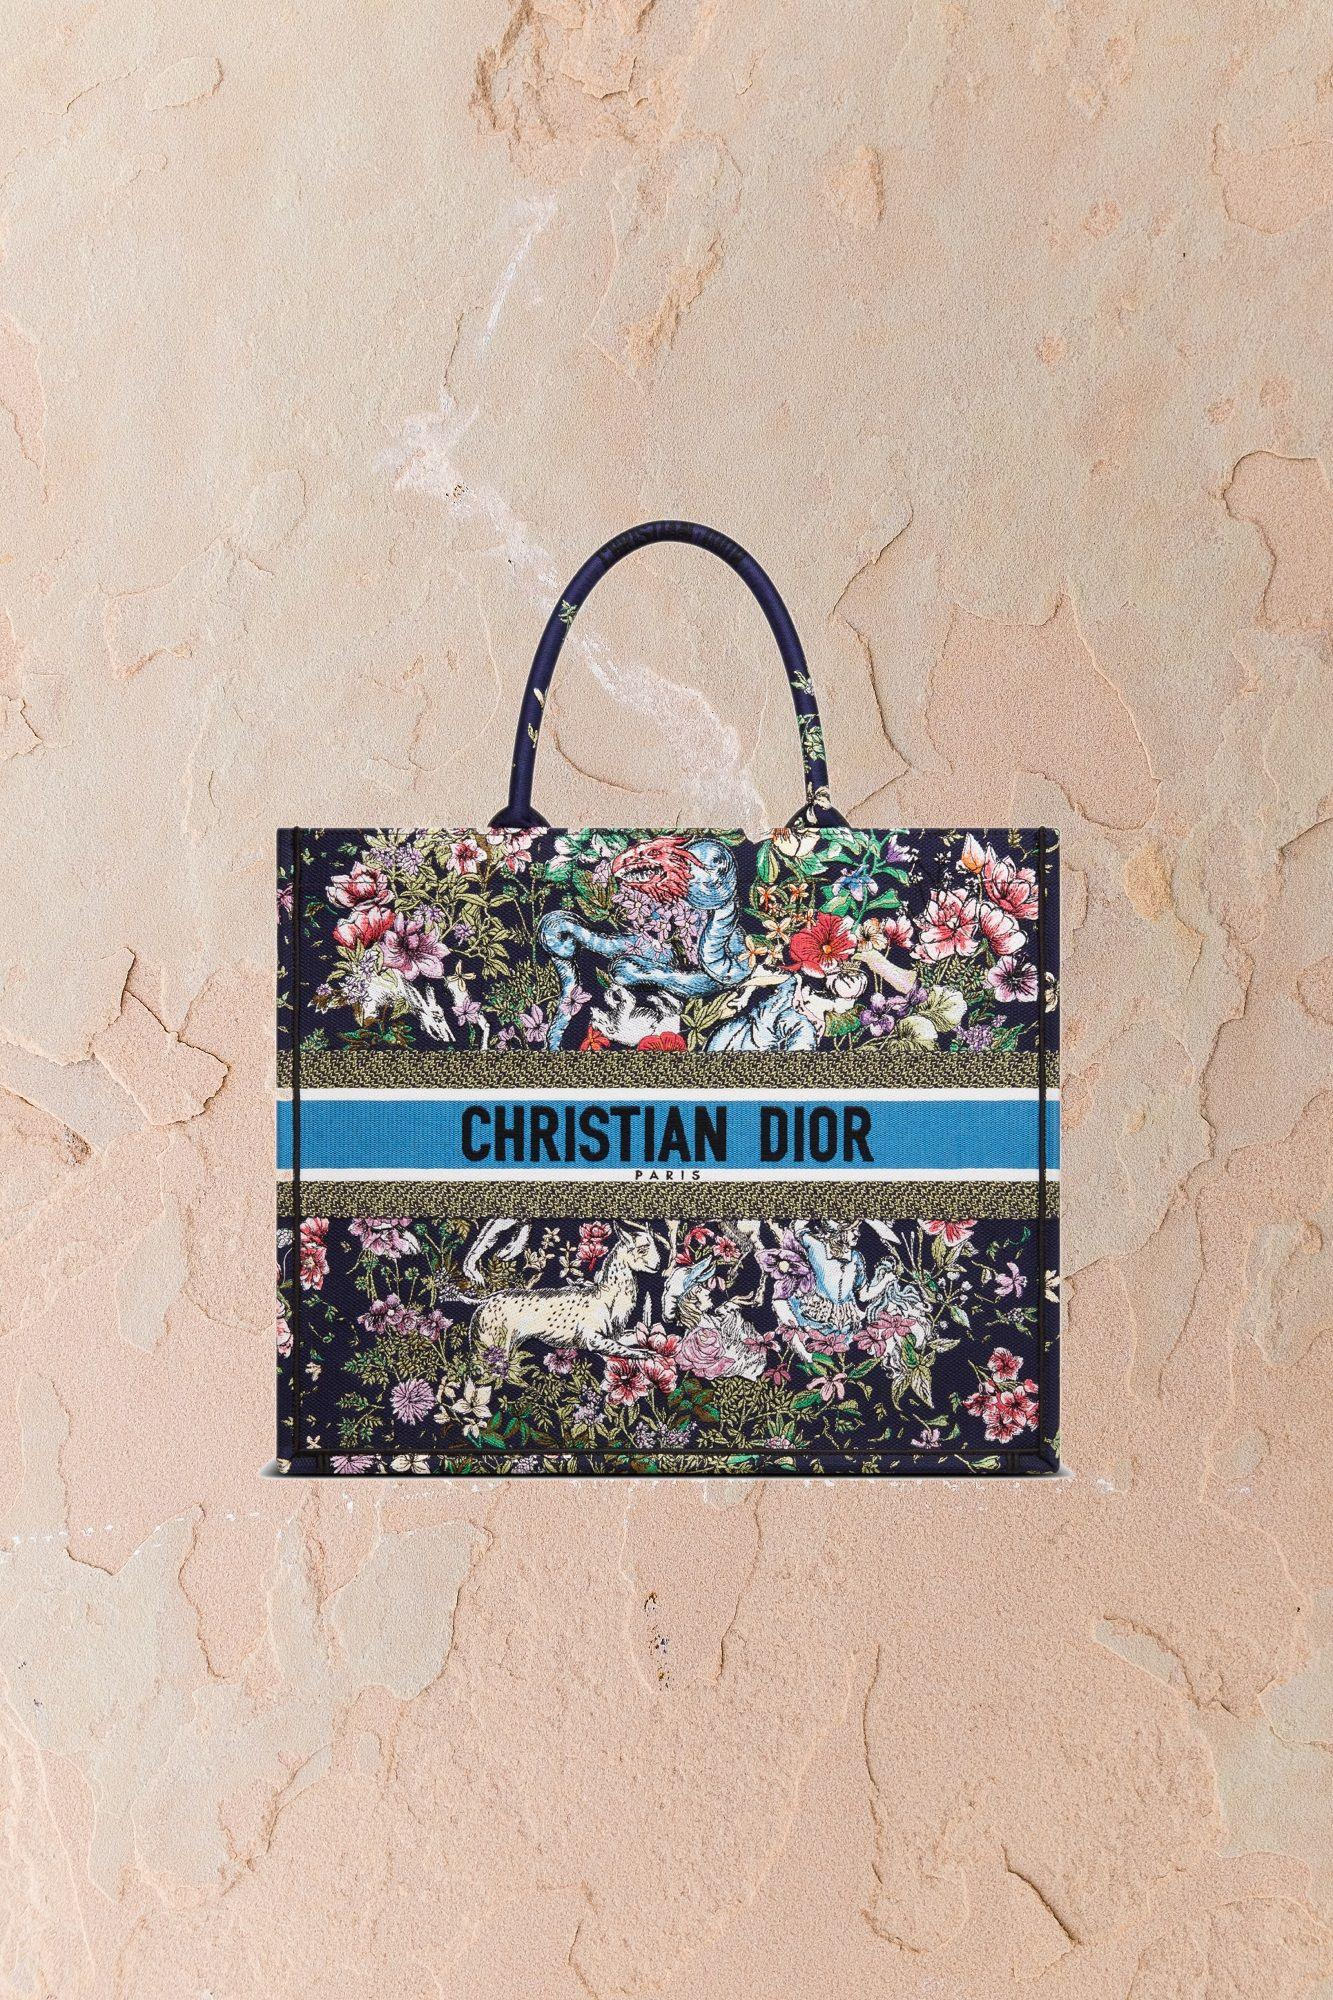DIOR: (437, 1042, 906, 1233)
